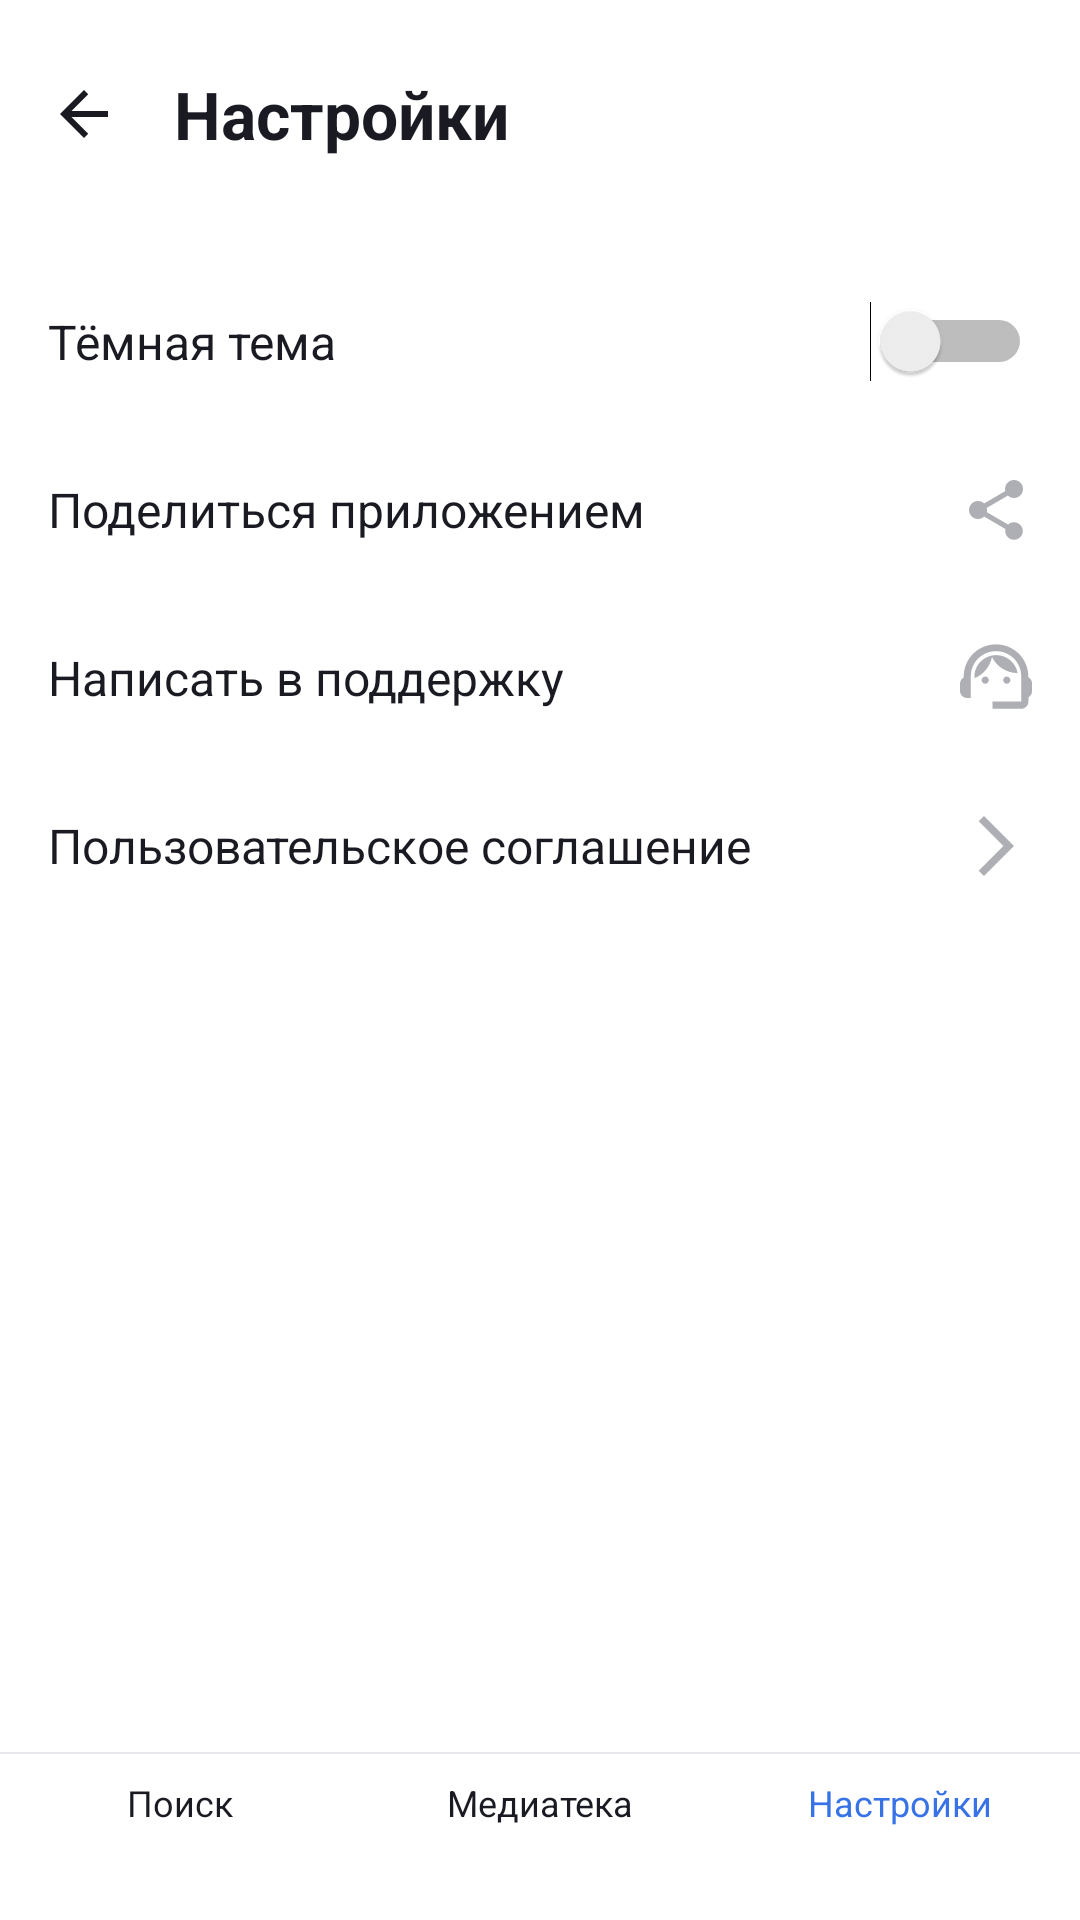

Where icons sit on this 1080px×1920px app screen, as bbox=(x1, y1, x2, y2):
back arrow: bbox=(60, 90, 108, 138)
share: bbox=(969, 480, 1023, 540)
support settings: bbox=(960, 644, 1032, 709)
